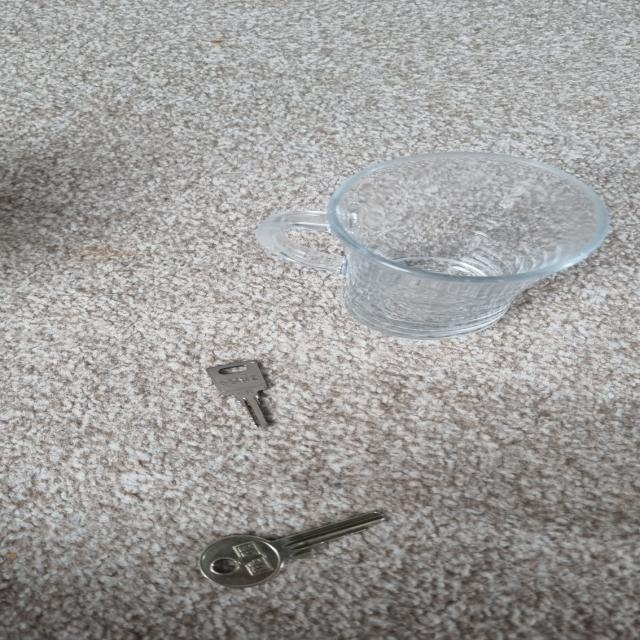Cup: (256, 152, 608, 340)
Key: (200, 512, 385, 589), (208, 360, 268, 427)
